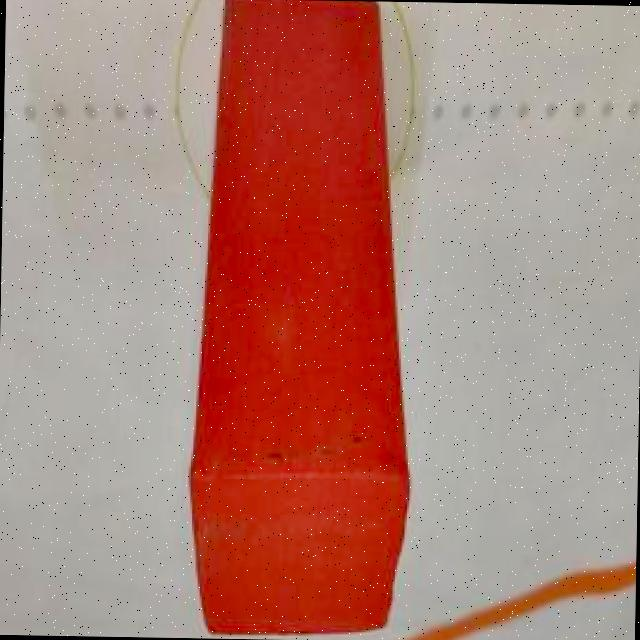redbox: (194, 0, 389, 630)
